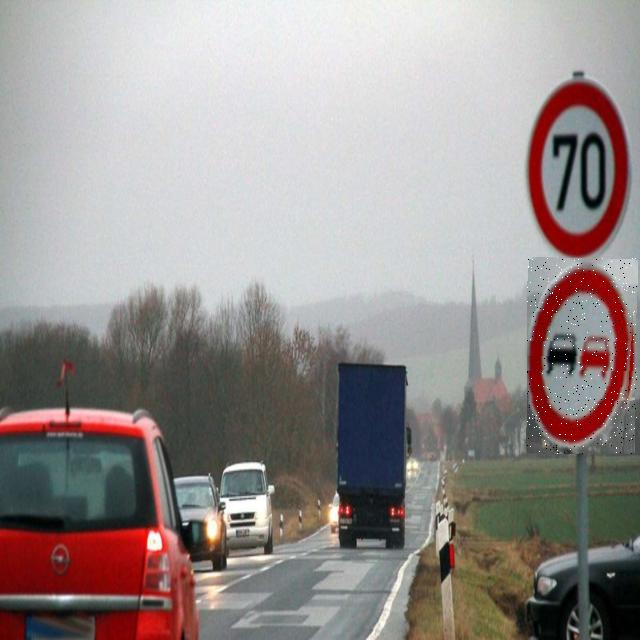no overtaking: (527, 258, 637, 454)
